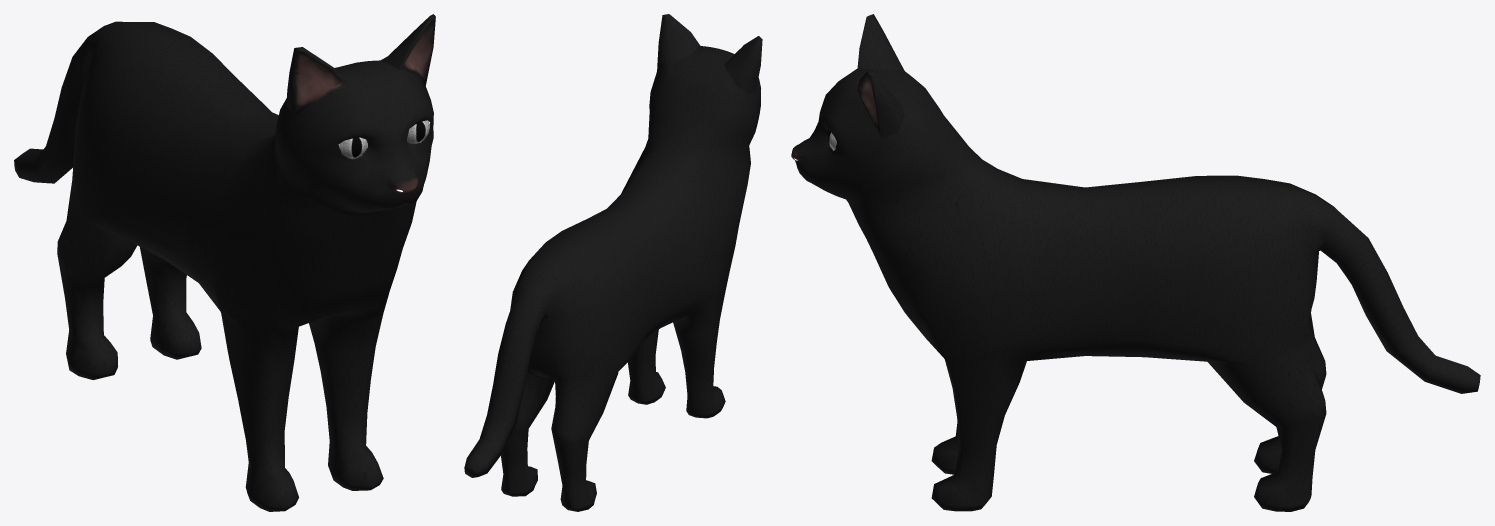
File: cat_Sblack.glb
3 renders of one model, left to right at view 1: azimuth 30°, elevation 25°; view 2: azimuth 150°, elevation 25°; view 3: azimuth 270°, elevation 25°, orthographic. The views are drawn at different scales.
Parts seen in each view (by area): view 1: body cat_geo.001, cat_geo eyes.001; view 2: body cat_geo.001; view 3: body cat_geo.001.
Part boxes in pixels (left/top/right/bottom): body cat_geo.001: left=14, top=14, right=435, bottom=511; cat_geo eyes.001: left=338, top=120, right=429, bottom=158; body cat_geo.001: left=464, top=14, right=762, bottom=511; body cat_geo.001: left=791, top=14, right=1480, bottom=511.
Bounding box in the file's own units: 1572 × 5053 × 7130.
Materials: 2 (2 with a texture image).
